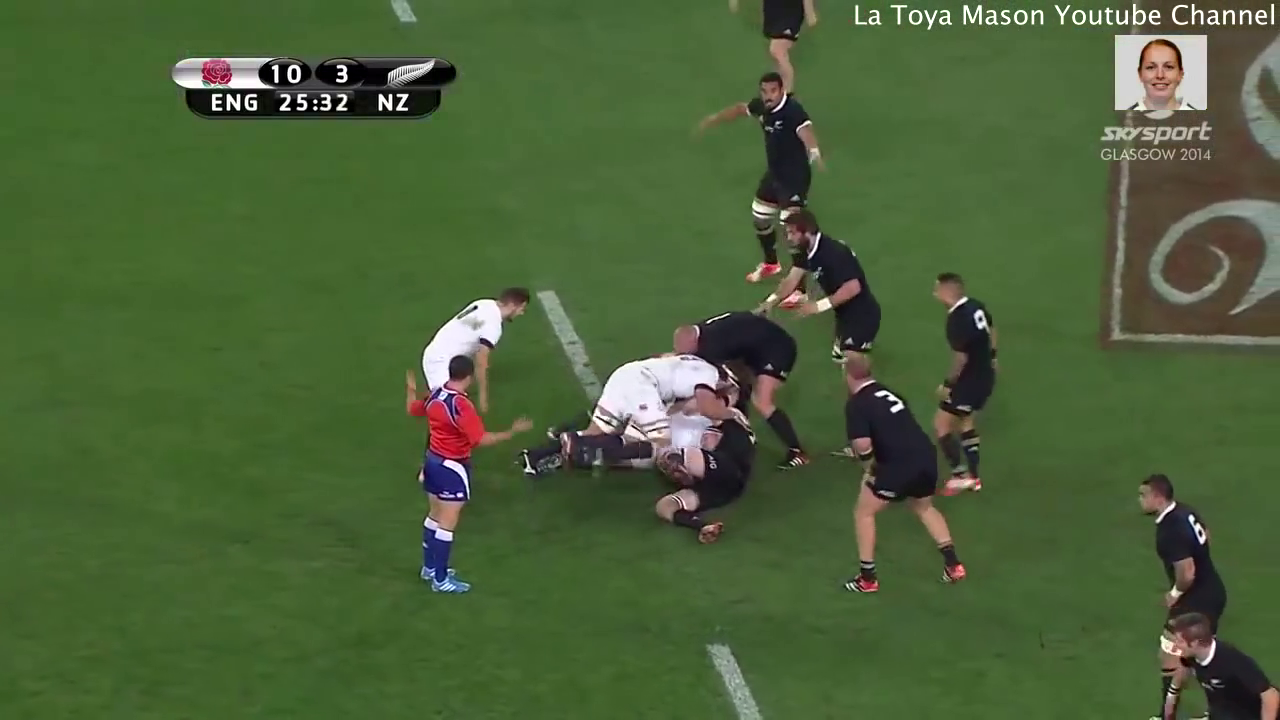player: (818, 336, 981, 605), (395, 345, 544, 606), (684, 72, 833, 310), (1117, 467, 1252, 718), (905, 253, 1011, 514), (757, 204, 893, 407), (545, 328, 727, 478), (669, 300, 818, 480), (404, 272, 537, 437), (650, 399, 759, 546), (1157, 594, 1280, 720), (721, 1, 833, 106)
